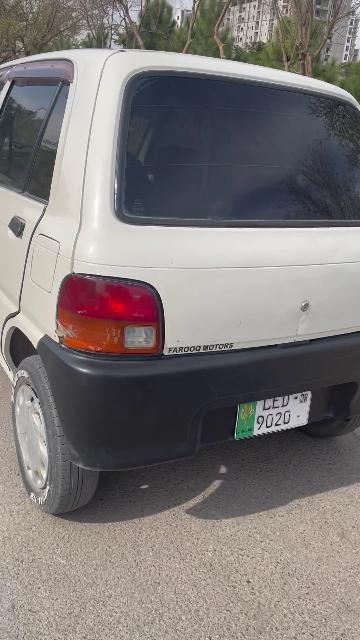plate: (236, 390, 314, 439)
